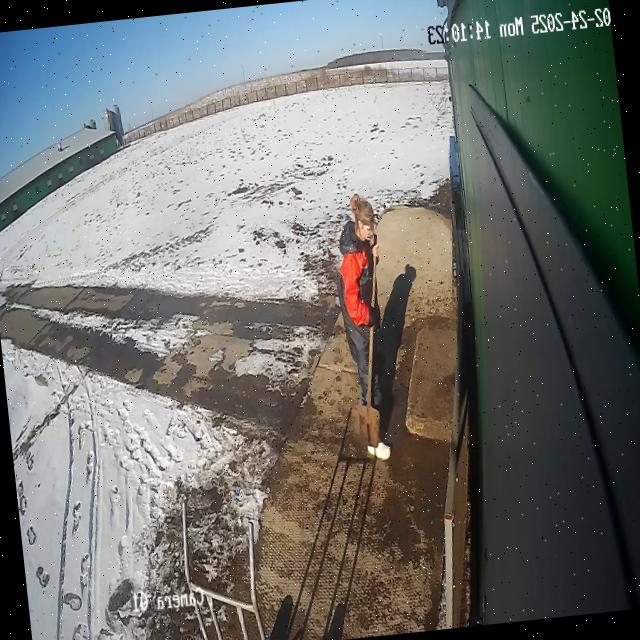Red uniform: (326, 190, 404, 465)
